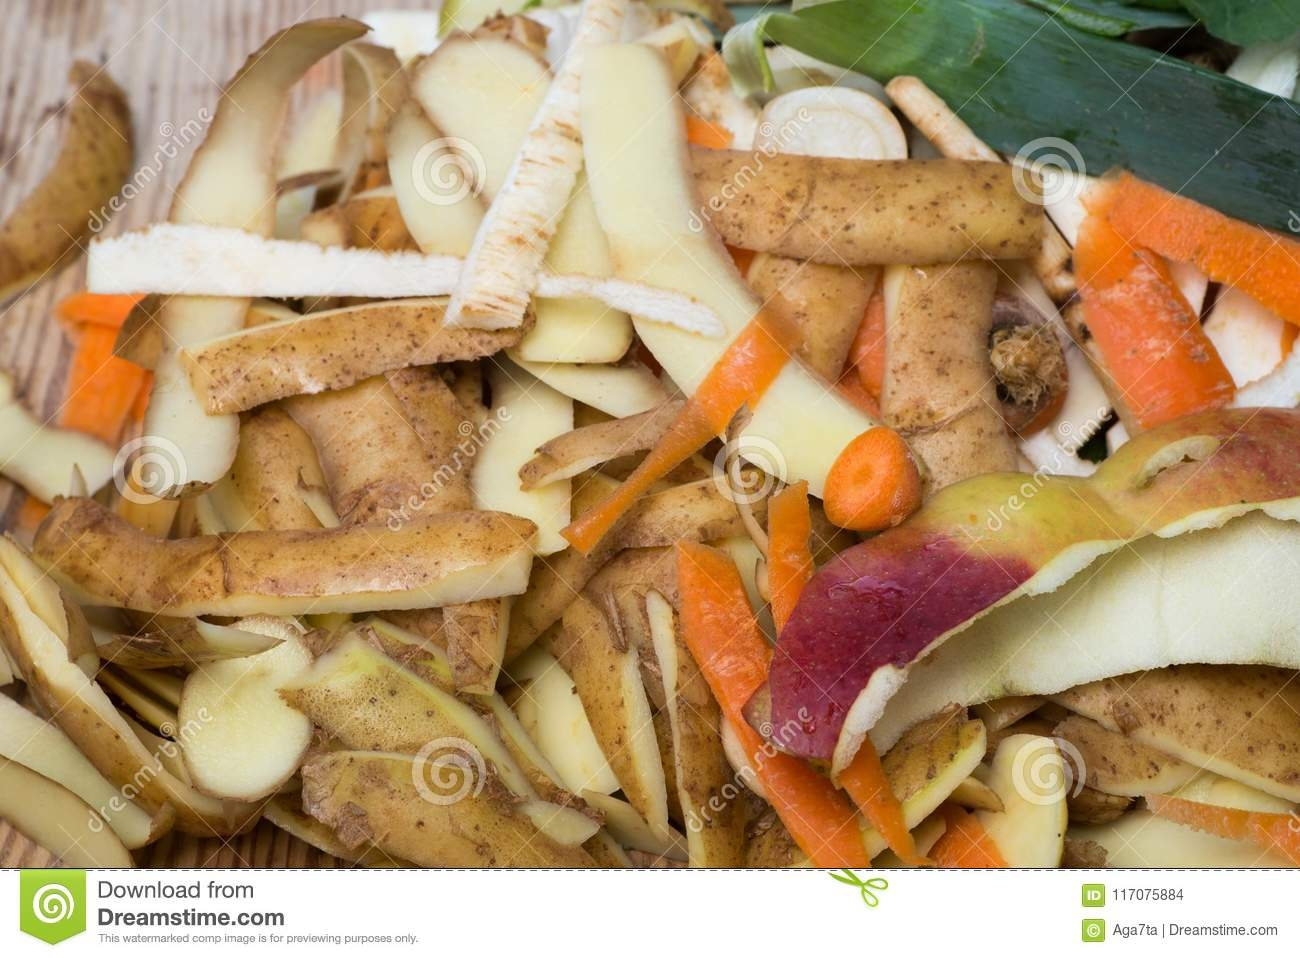kitchen_waste: (720, 345, 1300, 768), (77, 180, 775, 425), (378, 14, 692, 422), (123, 1, 363, 524), (658, 471, 934, 866), (262, 637, 669, 886), (586, 107, 1103, 285), (26, 475, 553, 637), (1028, 168, 1300, 412), (146, 607, 358, 807), (782, 404, 956, 543)
